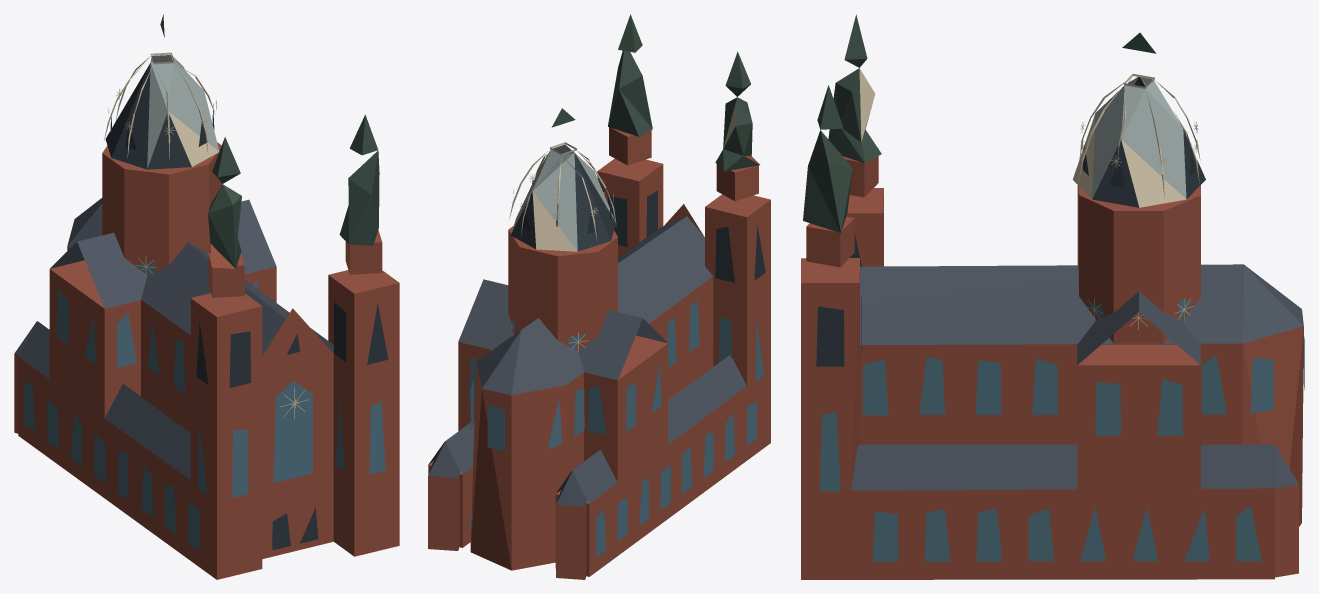
File: sint-nicolaas.lod2.glb
3 renders of one model, left to right at view 1: azimuth 30°, elevation 25°; view 2: azimuth 150°, elevation 25°; view 3: azimuth 270°, elevation 25°, orthographic. The views are drawn at different scales.
Visible parts, largest first — view 1: lod2; view 2: lod2; view 3: lod2.
Boxes of the visible parts, x1,y1,x2,y2 form: lod2: (14,14,399,579); lod2: (428,14,770,579); lod2: (801,14,1304,579).
Bounding box in the file's own units: 23.25 × 56.1 × 51.37.
